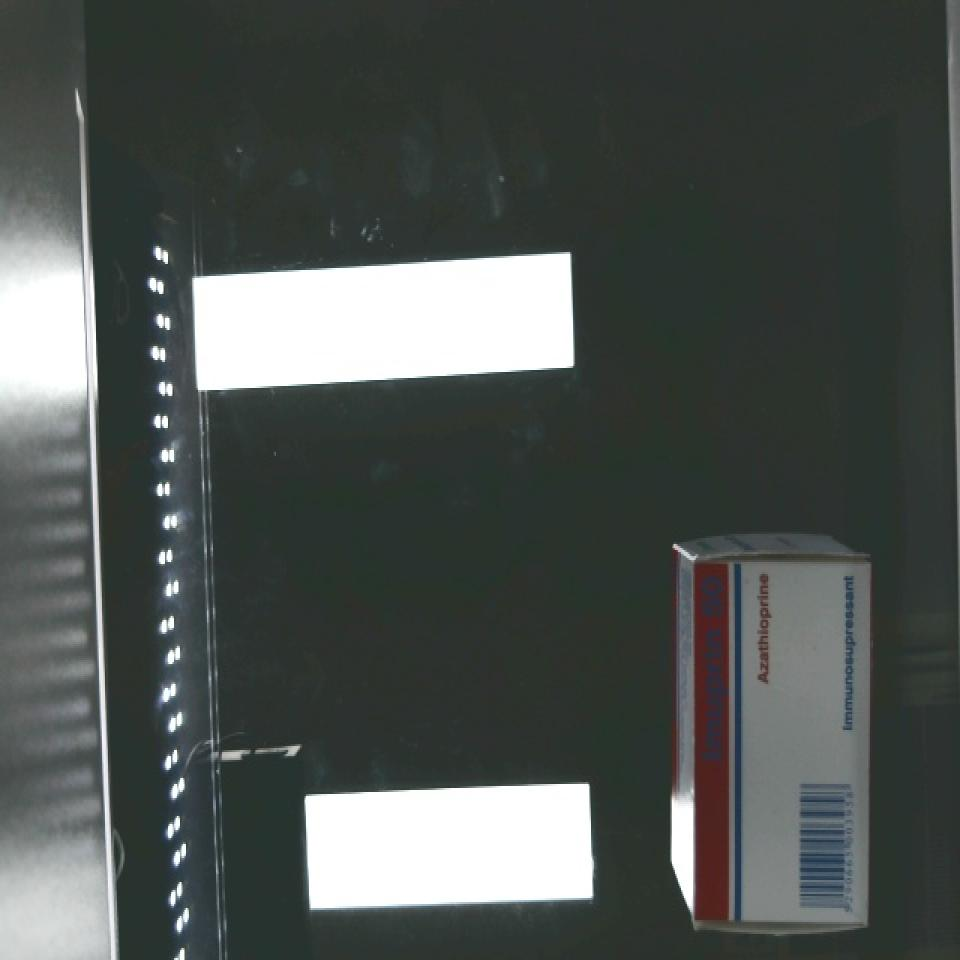medicine_box: (691, 556, 874, 932)
medicine_label_obb: (692, 556, 743, 777)
